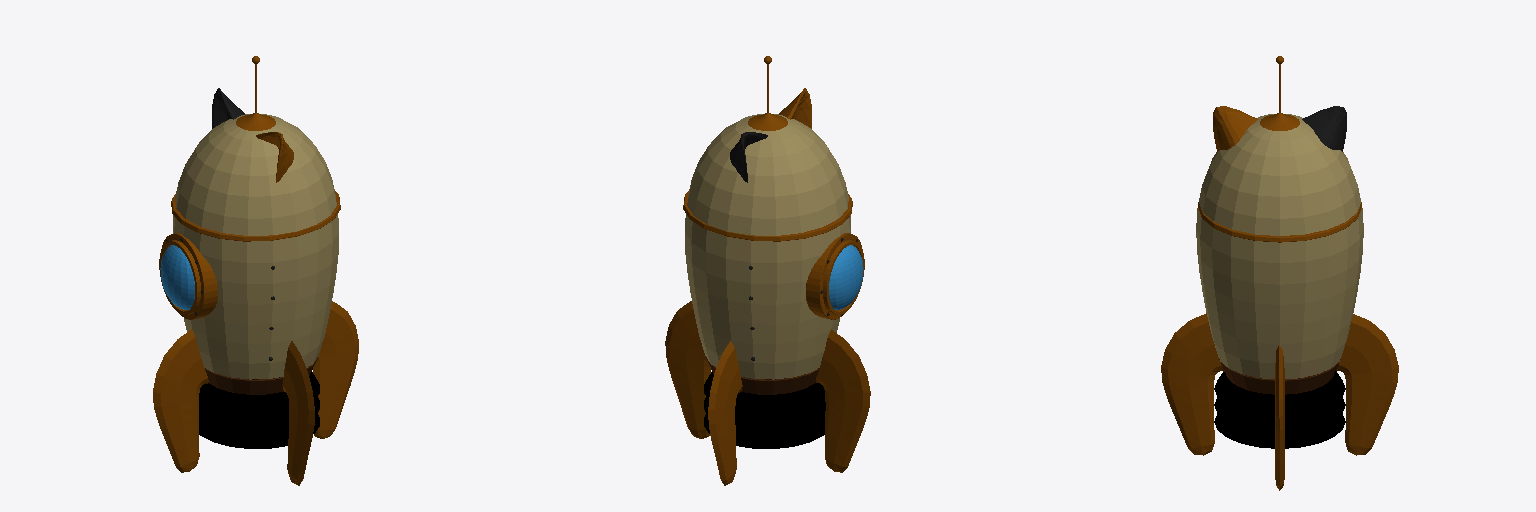
File: rocket.obj
The picture shows the model from 3 angles: view 1: azimuth 30°, elevation 25°; view 2: azimuth 150°, elevation 25°; view 3: azimuth 270°, elevation 25°; orthographic projection.
Parts seen in each view (by area): view 1: pCube6; view 2: pCube6; view 3: pCube6.
Boxes of the visible parts, x1,y1,x2,y2 form: pCube6: [153, 56, 358, 485]; pCube6: [665, 56, 870, 485]; pCube6: [1161, 56, 1398, 490].
Bounding box in the file's own units: 7.02 × 13 × 7.02.